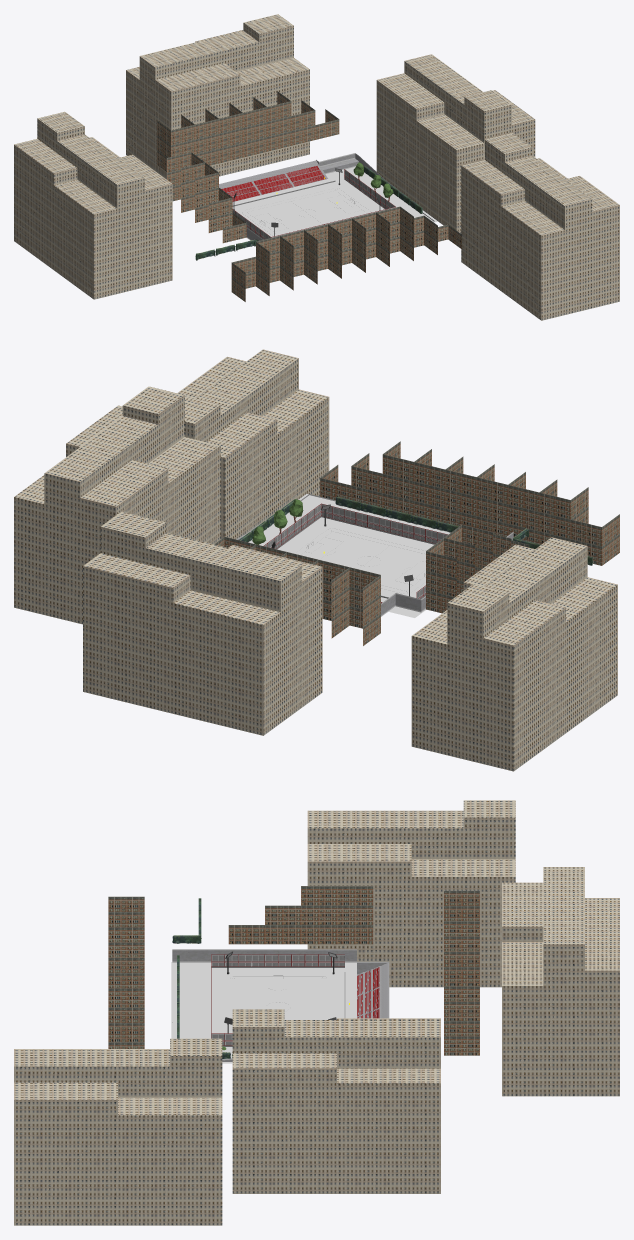
Rendered from Summerfield.fbx.
The picture shows the model from 3 angles, top to bottom: view 1: azimuth 30°, elevation 25°; view 2: azimuth 150°, elevation 25°; view 3: azimuth 270°, elevation 25°; orthographic projection. The views are drawn at different scales.
Visible parts, largest first — view 1: Plane.066, Plane.067, Plane.065, Plane.064, Plane, Plane.002, Plane.013, Plane.006, Plane.010, Plane.005, Plane.001, Summer / Seat Arrays (+7 smaller); view 2: Plane.065, Plane.066, Plane.064, Plane.067, Plane, Plane.013, Plane.006, Plane.002, Plane.010, Plane.011, Plane.007, Plane.003 (+6 smaller); view 3: Plane.067, Plane.064, Plane.066, Plane.065, Plane, Plane.006, Plane.010, Plane.009, Plane.003, Plane.008, Plane.012, Plane.011 (+5 smaller).
Part boxes in pixels (left/top/right/bottom): Plane.066: left=14, top=111, right=172, bottom=299; Plane.067: left=461, top=133, right=619, bottom=320; Plane.065: left=126, top=14, right=309, bottom=179; Plane.064: left=376, top=54, right=535, bottom=233; Plane: left=232, top=167, right=437, bottom=240; Plane.002: left=231, top=224, right=461, bottom=301; Plane.013: left=231, top=215, right=437, bottom=286; Plane.006: left=256, top=206, right=413, bottom=266; Plane.010: left=157, top=91, right=291, bottom=145; Plane.005: left=157, top=100, right=315, bottom=157; Plane.001: left=157, top=109, right=339, bottom=171; Summer / Seat Arrays: left=221, top=166, right=325, bottom=201; Plane.065: left=83, top=511, right=322, bottom=735; Plane.066: left=411, top=537, right=617, bottom=771; Plane.064: left=14, top=386, right=220, bottom=624; Plane.067: left=177, top=349, right=329, bottom=539; Plane: left=248, top=494, right=450, bottom=617; Plane.013: left=351, top=453, right=619, bottom=546; Plane.006: left=382, top=441, right=588, bottom=519; Plane.002: left=320, top=465, right=619, bottom=565; Plane.010: left=214, top=536, right=380, bottom=607; Plane.011: left=426, top=525, right=493, bottom=577; Plane.007: left=321, top=503, right=447, bottom=544; Plane.003: left=426, top=534, right=511, bottom=596; Plane.067: left=14, top=1038, right=222, bottom=1225; Plane.064: left=232, top=1009, right=440, bottom=1193; Plane.066: left=307, top=800, right=515, bottom=987; Plane.065: left=502, top=867, right=619, bottom=1096; Plane: left=171, top=962, right=356, bottom=1063; Plane.006: left=108, top=896, right=144, bottom=1007; Plane.010: left=444, top=890, right=479, bottom=986; Plane.009: left=228, top=925, right=373, bottom=944; Plane.003: left=265, top=905, right=373, bottom=924; Plane.008: left=211, top=954, right=344, bottom=967; Plane.012: left=172, top=949, right=389, bottom=1061; Plane.011: left=301, top=886, right=373, bottom=905.
Bounding box in the file's own units: 46385 × 16818 × 45325.
